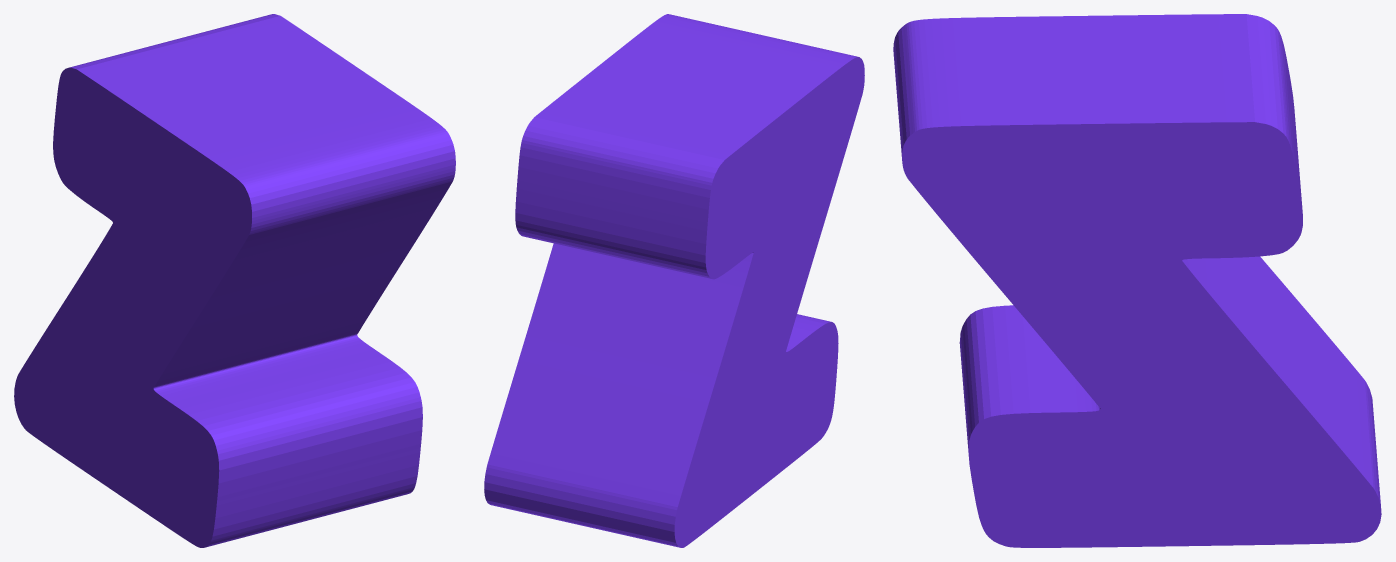
The picture shows the model from 3 angles, left to right: view 1: azimuth 30°, elevation 25°; view 2: azimuth 150°, elevation 25°; view 3: azimuth 270°, elevation 25°; orthographic projection. The views are drawn at different scales.
Visible parts, largest first — view 1: movez.stl; view 2: movez.stl; view 3: movez.stl.
Part boxes in pixels (x1,y1,x2,y2): movez.stl: [14, 14, 455, 547]; movez.stl: [484, 14, 864, 547]; movez.stl: [893, 14, 1381, 547].
Bounding box in the file's own units: 1.06 × 1.83 × 1.91.
